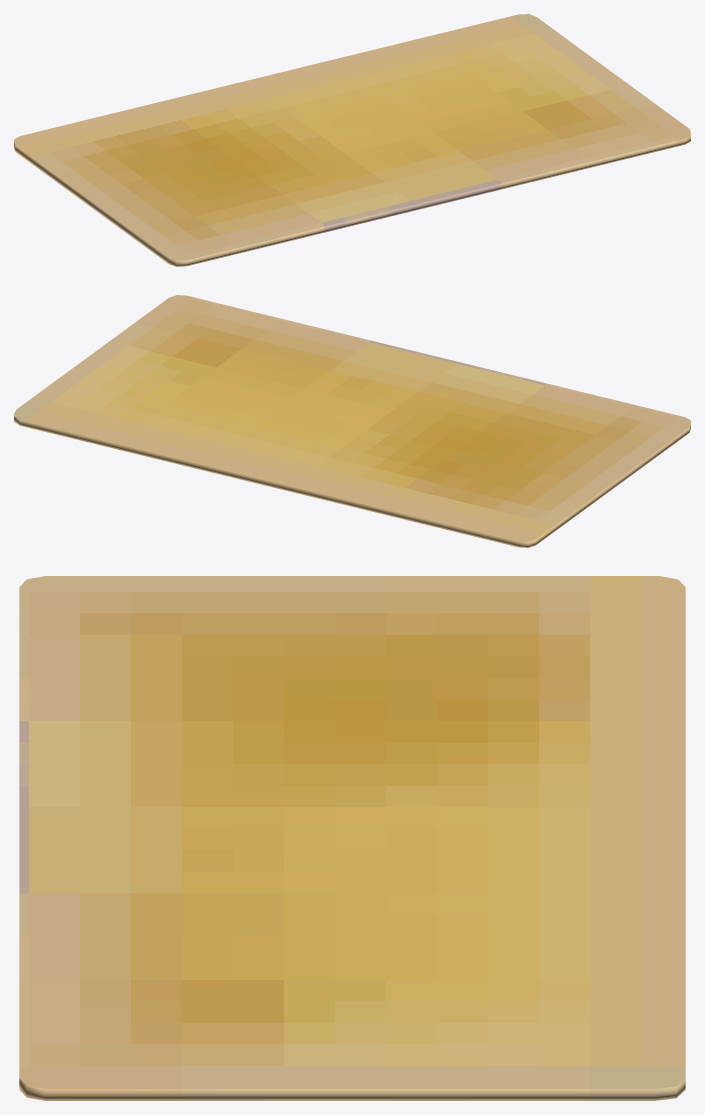
Rendered from a_com_house_a01_mat01_square.gltf.
3 renders of one model, top to bottom at view 1: azimuth 30°, elevation 25°; view 2: azimuth 150°, elevation 25°; view 3: azimuth 270°, elevation 25°, orthographic. The views are drawn at different scales.
Parts seen in each view (by area): view 1: um_a_com_house_a01_mat01_model_a_com_house_a01_mat01_modelSh (×5); view 2: um_a_com_house_a01_mat01_model_a_com_house_a01_mat01_modelSh (×5); view 3: um_a_com_house_a01_mat01_model_a_com_house_a01_mat01_modelSh (×5).
Boxes of the visible parts, x1,y1,x2,y2 form: um_a_com_house_a01_mat01_model_a_com_house_a01_mat01_modelSh (×5): [14, 14, 690, 266]; um_a_com_house_a01_mat01_model_a_com_house_a01_mat01_modelSh (×5): [14, 295, 690, 547]; um_a_com_house_a01_mat01_model_a_com_house_a01_mat01_modelSh (×5): [19, 576, 685, 1100].
Bounding box in the file's own units: 2.05 × 0.0314 × 1.13.
Materials: 5 (5 with a texture image).
